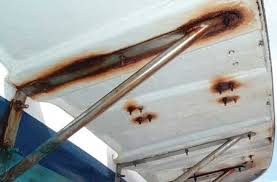rust: (54, 55, 118, 85), (196, 16, 238, 33), (126, 102, 157, 124), (213, 81, 239, 102)
